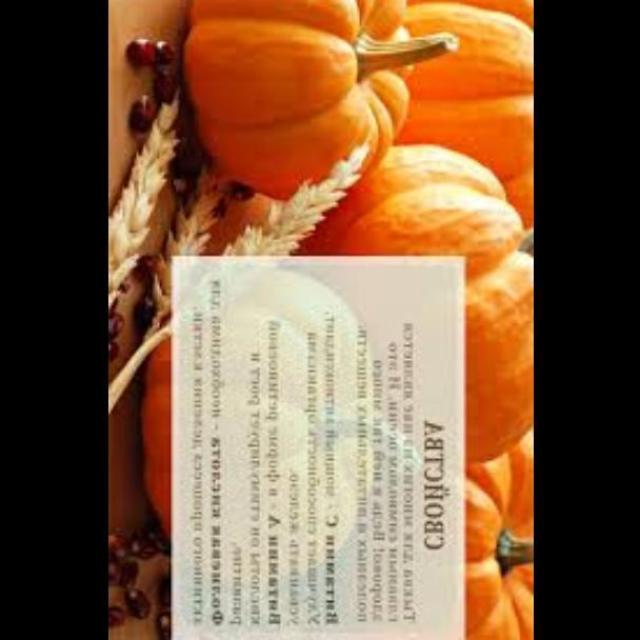Pumpkin: (323, 144, 534, 456), (186, 1, 425, 196), (394, 1, 534, 236), (453, 431, 533, 640)
fasol: (114, 28, 190, 132), (109, 524, 173, 634)
